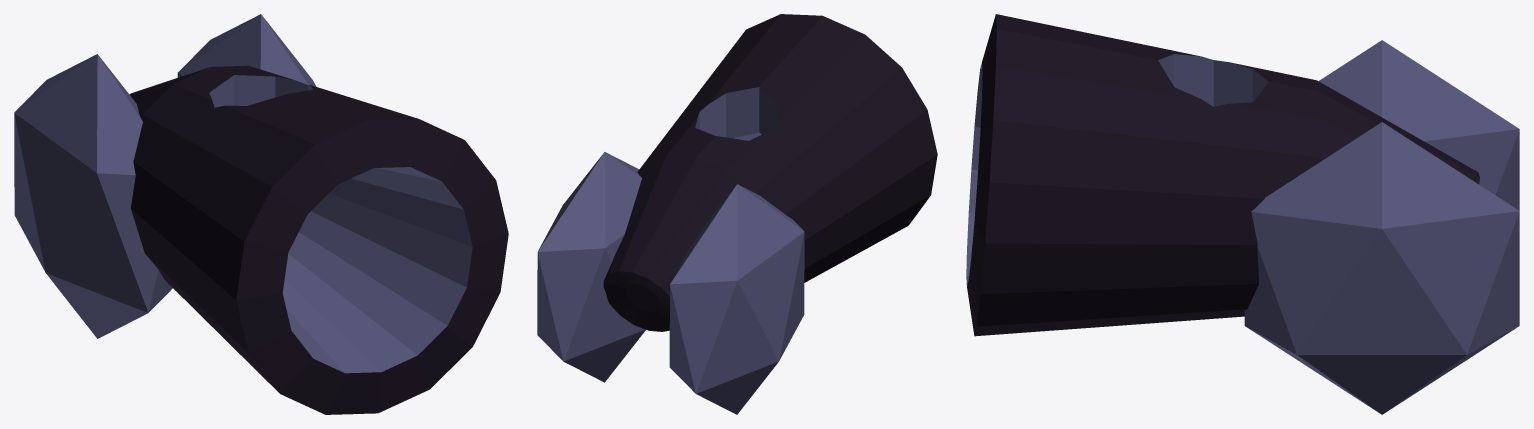
File: StartCannon.glb
3 views of the same model, side by side, from view 1: azimuth 30°, elevation 25°; view 2: azimuth 150°, elevation 25°; view 3: azimuth 270°, elevation 25° (orthographic). The views are drawn at different scales.
Visible parts, largest first — view 1: Cylinder, Icosphere.001, Icosphere; view 2: Cylinder, Icosphere.001, Icosphere; view 3: Cylinder, Icosphere, Icosphere.001.
Boxes of the visible parts, bbox=[...] form: Cylinder: bbox=[129, 65, 508, 414]; Icosphere.001: bbox=[14, 54, 172, 338]; Icosphere: bbox=[177, 14, 316, 86]; Cylinder: bbox=[603, 14, 937, 331]; Icosphere.001: bbox=[669, 184, 804, 414]; Icosphere: bbox=[537, 152, 645, 382]; Cylinder: bbox=[966, 14, 1479, 336]; Icosphere: bbox=[1244, 122, 1519, 414]; Icosphere.001: bbox=[1319, 40, 1519, 210].
Bounding box in the file's own units: 2 × 2.35 × 3.42.
